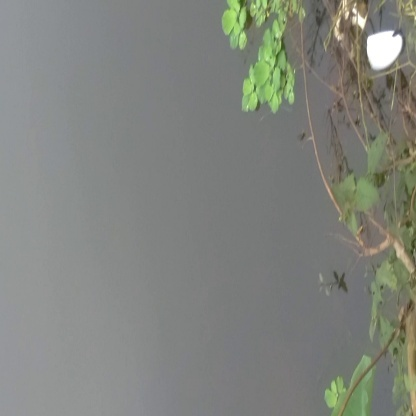leaf: (240, 38, 296, 124)
